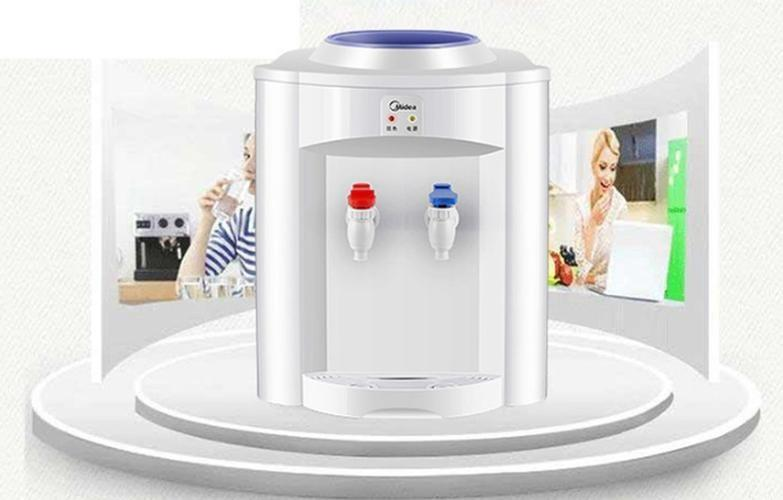Dispenser: (253, 28, 550, 419)
